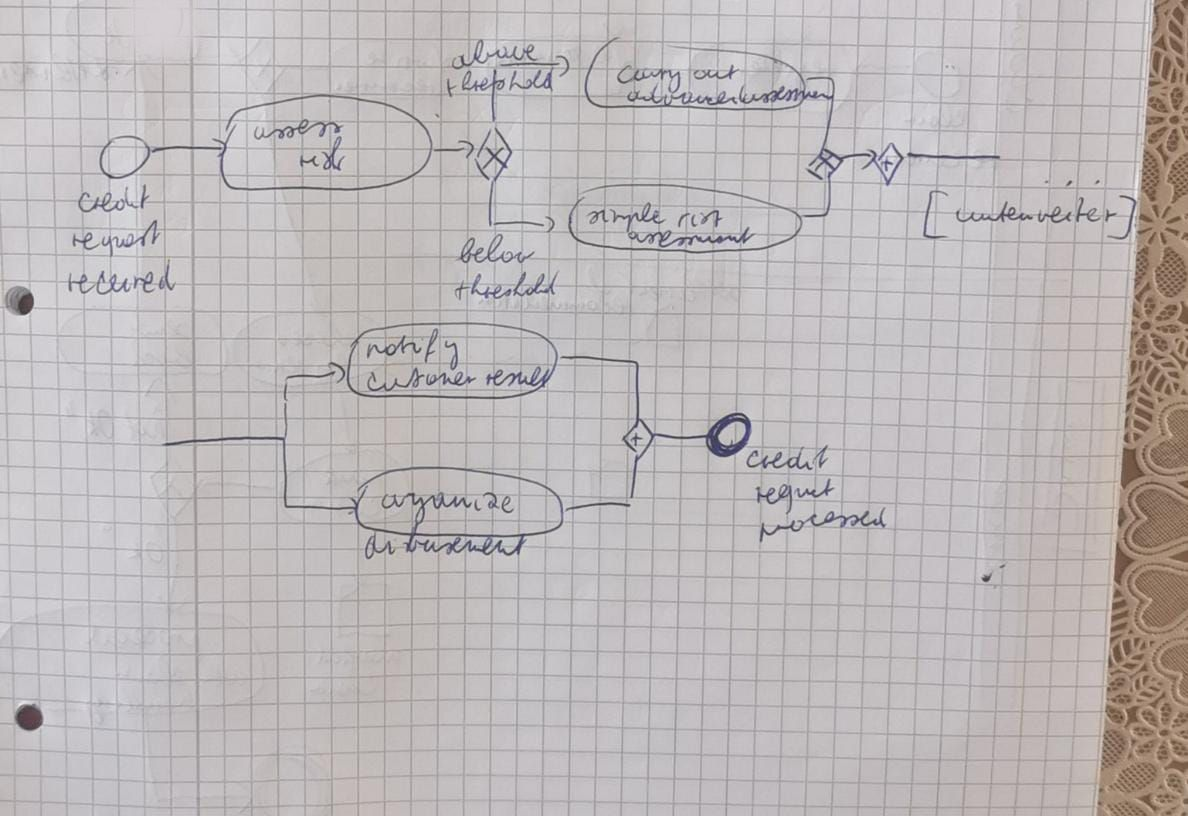Carry: (611, 61, 684, 94)
above: (447, 31, 540, 74)
advancedassessment: (622, 83, 838, 107)
assess: (245, 113, 342, 143)
assessment: (620, 224, 759, 251)
below: (452, 230, 538, 268)
busement: (400, 514, 528, 561)
credit: (72, 181, 152, 218), (742, 440, 831, 473)
customer: (362, 362, 478, 395)
notify: (361, 326, 461, 374)
or: (357, 531, 399, 565)
organize: (375, 485, 516, 528)
out: (689, 60, 739, 84)
processed: (751, 504, 890, 546)
received: (60, 255, 179, 301)
request: (66, 216, 165, 261), (749, 475, 838, 519)
result: (477, 361, 554, 392)
risk: (293, 133, 349, 176), (671, 204, 723, 232)
simple: (581, 201, 669, 235)
threshold: (447, 266, 563, 306), (438, 66, 558, 102)
unten: (950, 197, 1035, 229)
veiter: (1030, 195, 1119, 229)
